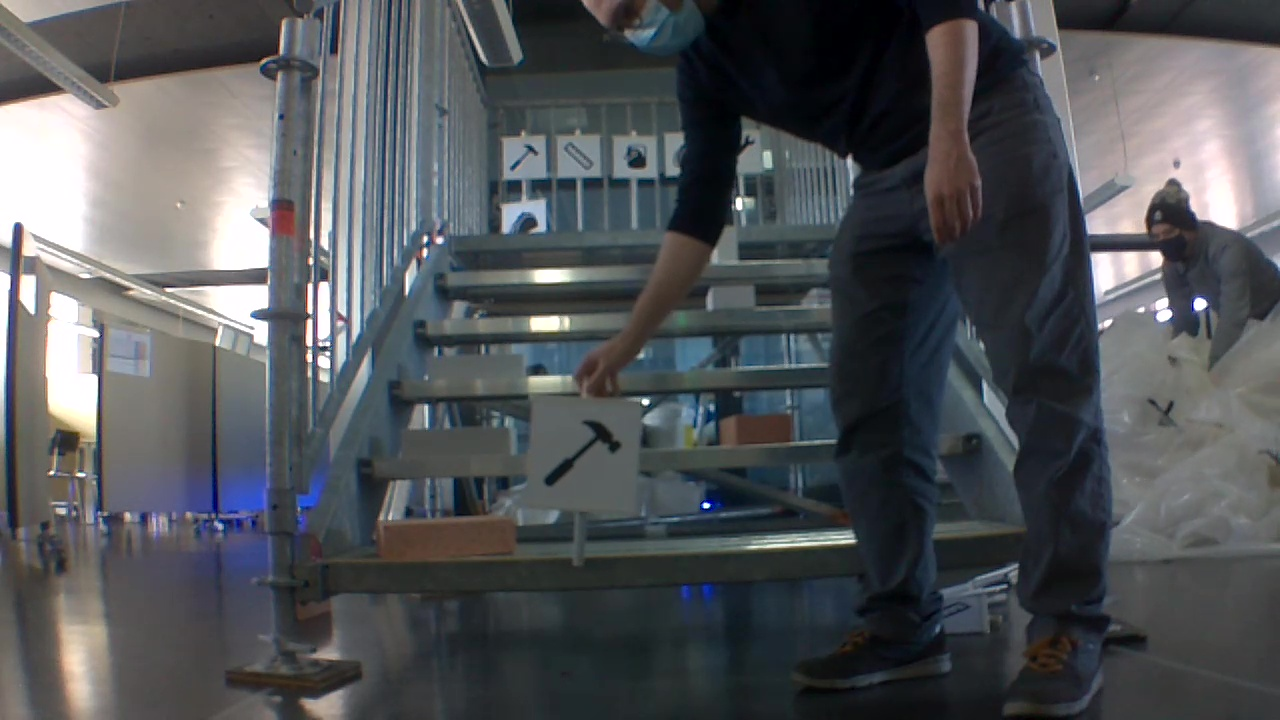brick: (379, 516, 513, 558), (402, 425, 514, 461), (430, 354, 525, 381), (720, 413, 786, 442), (704, 285, 755, 308)
bucket: (620, 142, 652, 173)
hammer: (536, 412, 630, 496), (503, 139, 538, 176)
ruler: (558, 141, 595, 173)
taco: (507, 207, 537, 233)
